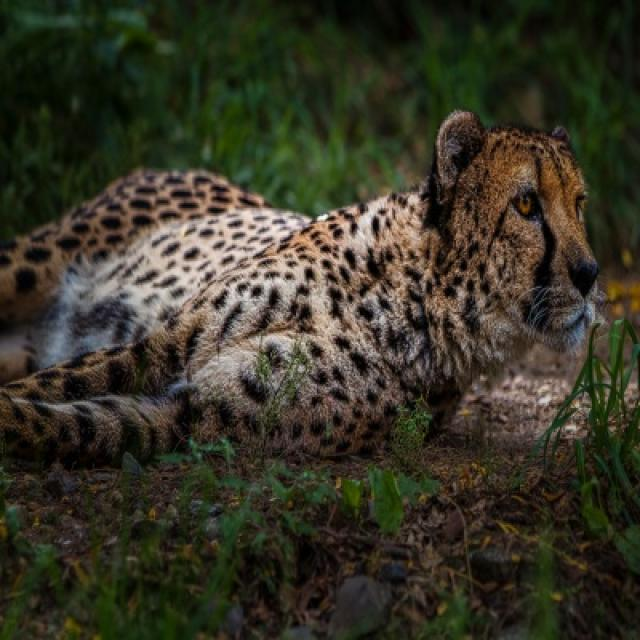Cheetah: (0, 110, 600, 475)
